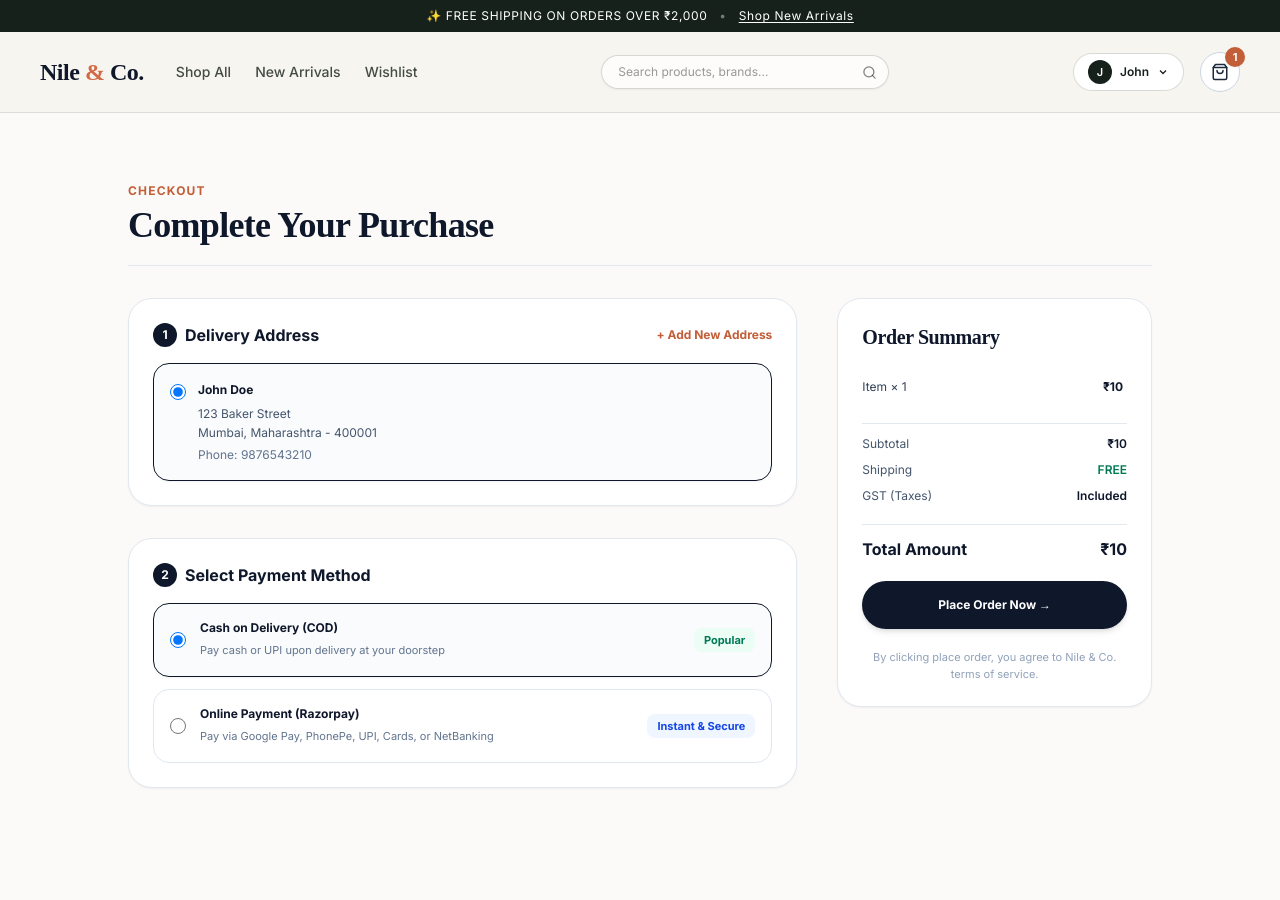
Test case: Checkout Component Form & Validation › allows toggling between COD and Razorpay payment methods
Check: the radio button labelled "Cash on Delivery" is checked, box [170,632,186,648]
Click the radio button labelled "Online Payment". click: (178, 726)
box: [170,718,186,734]
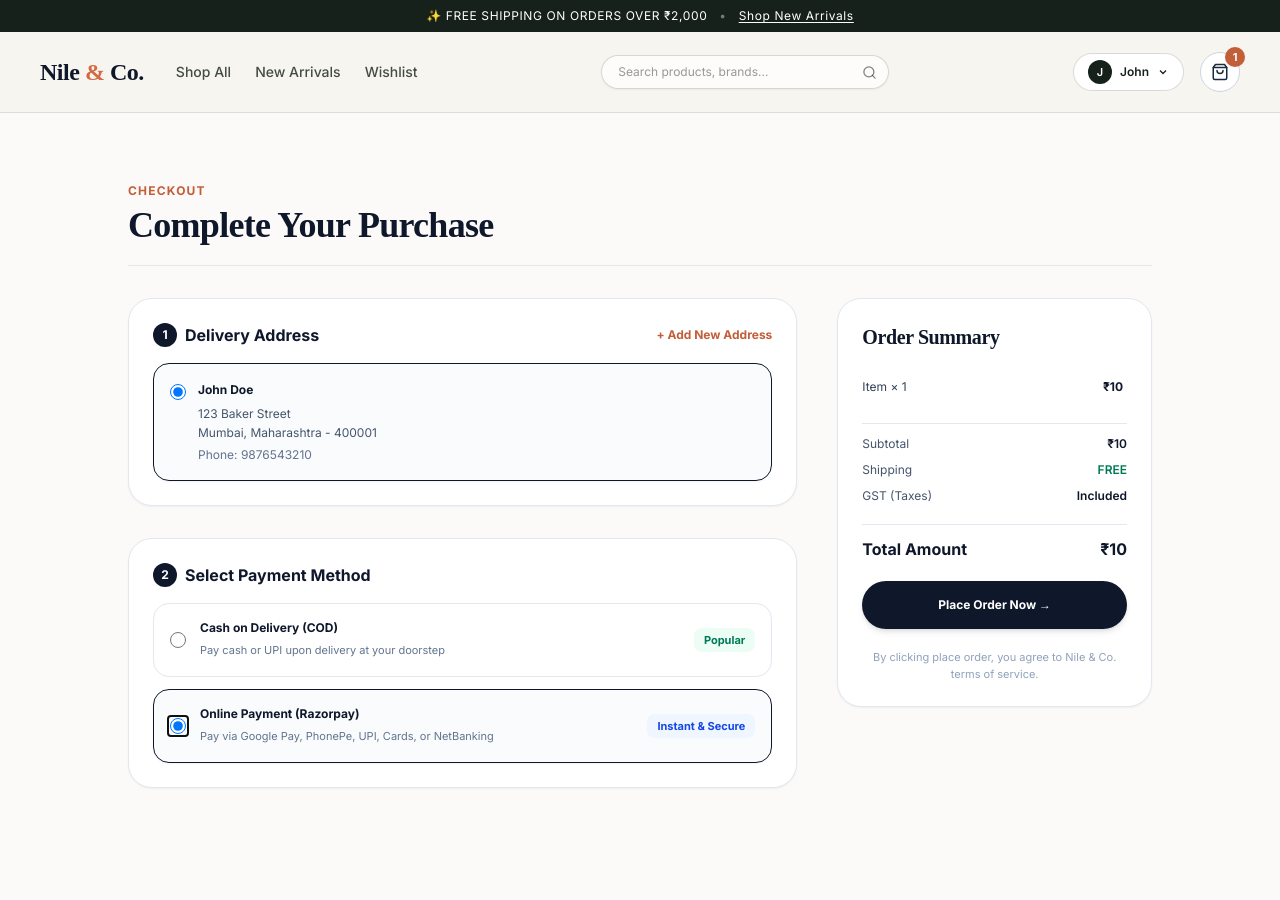
Check: the radio button labelled "Online Payment" is checked, box [170,718,186,734]
Check: the radio button labelled "Cash on Delivery" is not checked, box [170,632,186,648]
